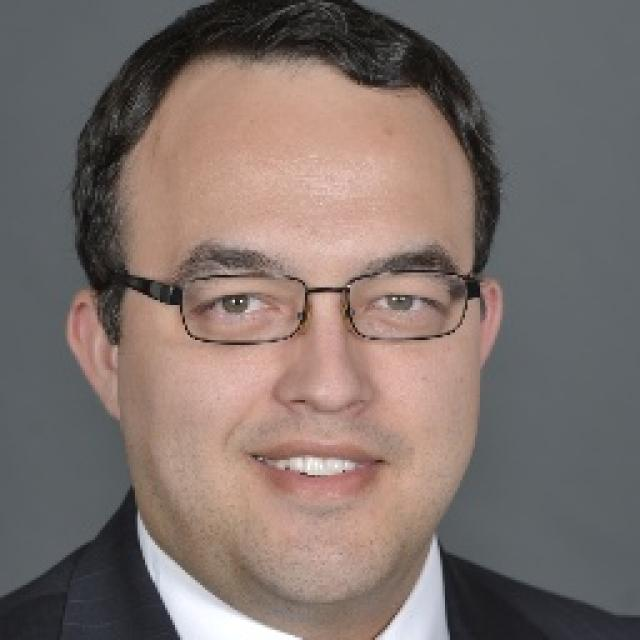earlobe: (96, 368, 122, 422)
eye: (198, 290, 274, 322), (363, 288, 438, 318)
nose: (276, 393, 368, 432)
wholeear: (68, 288, 121, 422), (477, 277, 503, 370)
